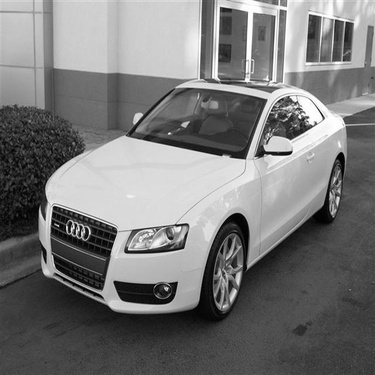car: (25, 72, 353, 323)
